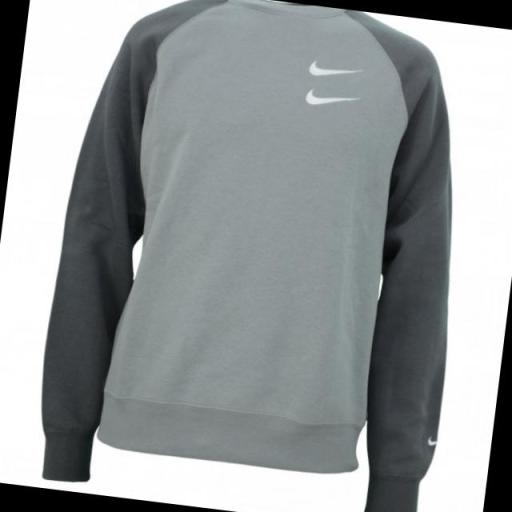Nike: (303, 86, 358, 113)
